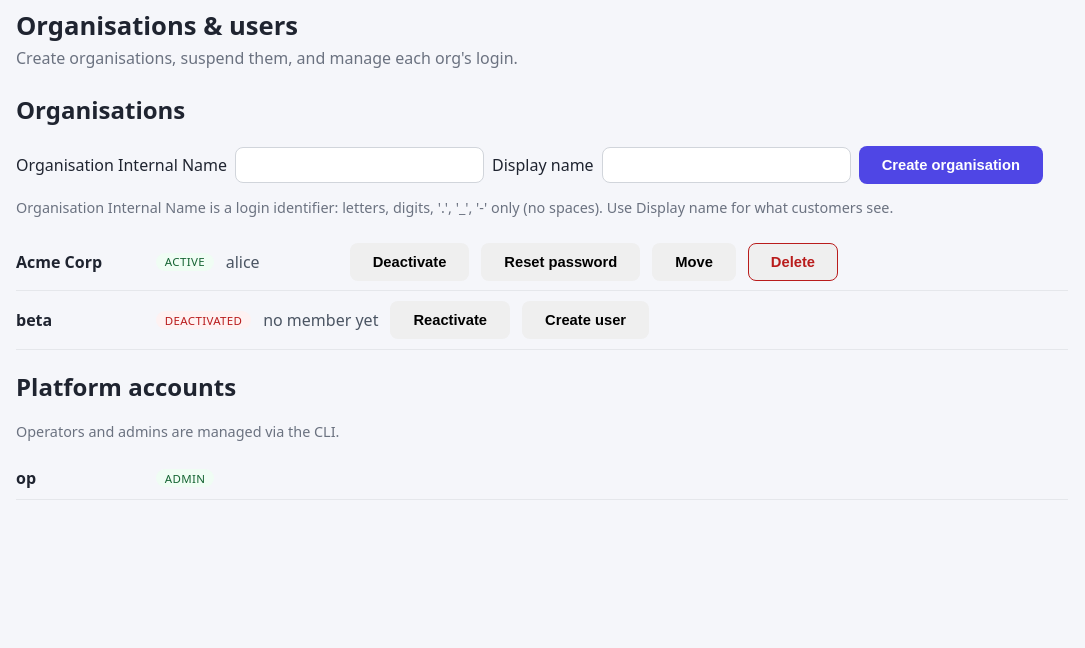
AccountsPage › scrolls the error banner into view when a create-user submit fails (banner can be off-screen on a long org list)
Expected: the text "Acme Corp" is shown, [16,251,102,273]
Step 1. Click the button with aria-label "create user for beta" → (586, 320), box [522,301,649,339]
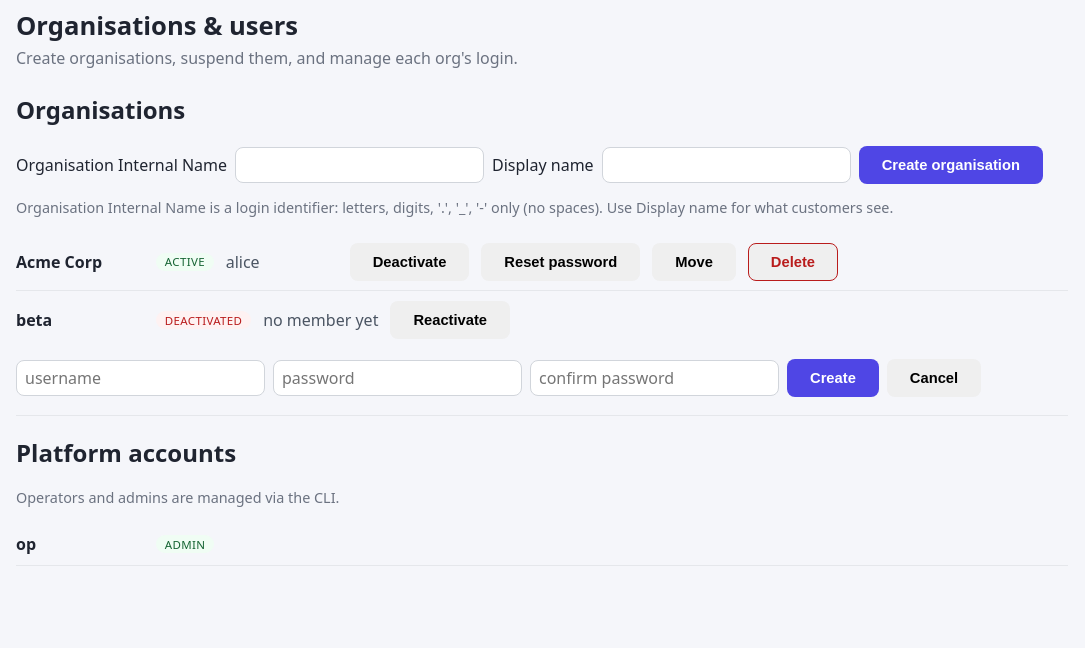
Step 2. Type "property demo" into the field named "Username for beta" → (140, 378), box [16,360,265,396]
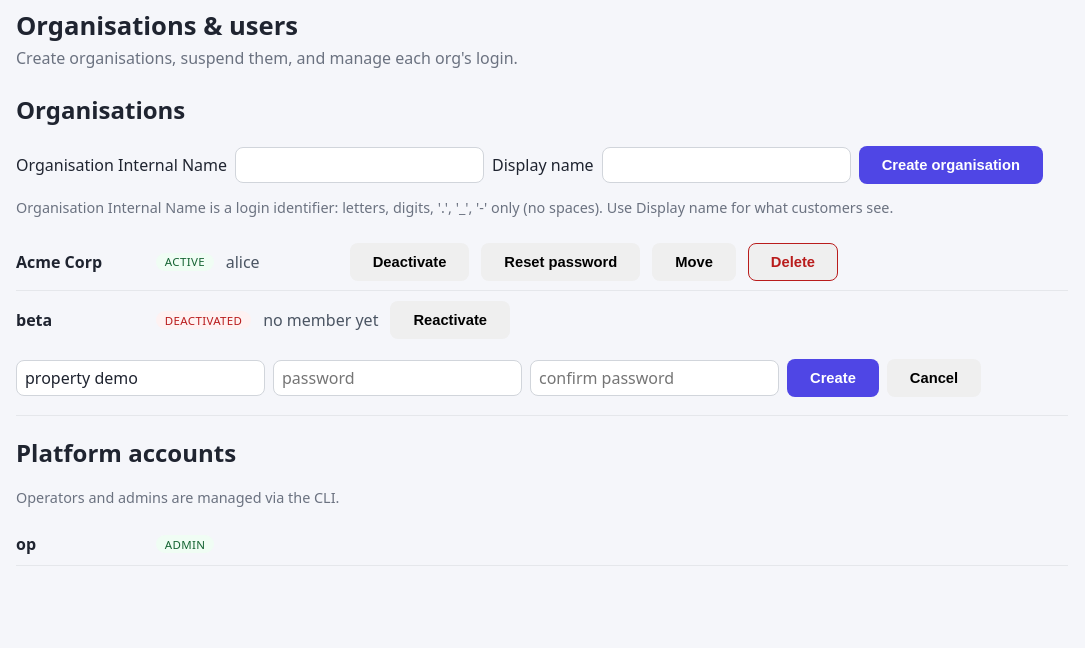
Step 3. Type "pw" into the password field named "Password for beta" → (398, 378), box [273,360,522,396]
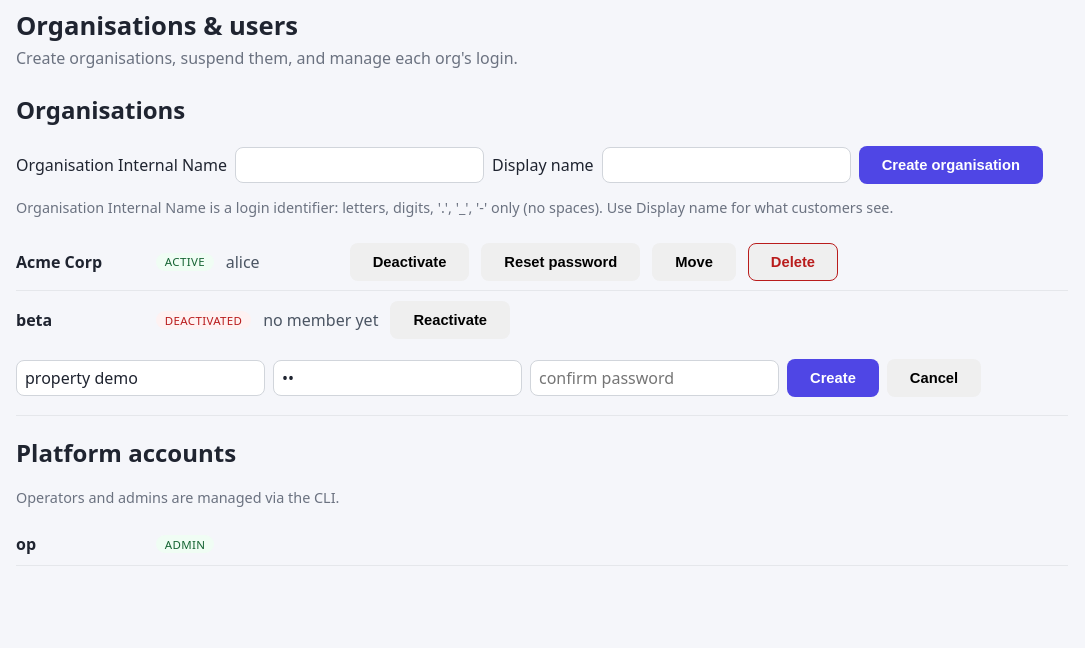
Step 4. Type "pw" into the password field named "Confirm password for beta" → (654, 378), box [530,360,779,396]
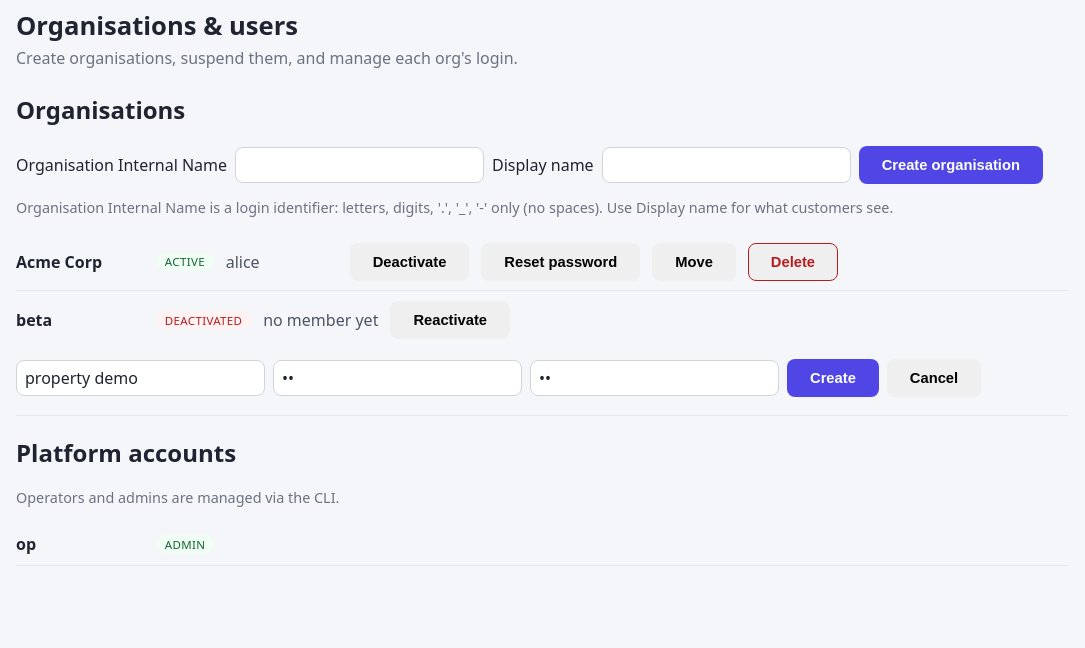
Step 5. Click the button "Create" → (833, 378), box [787,359,879,397]
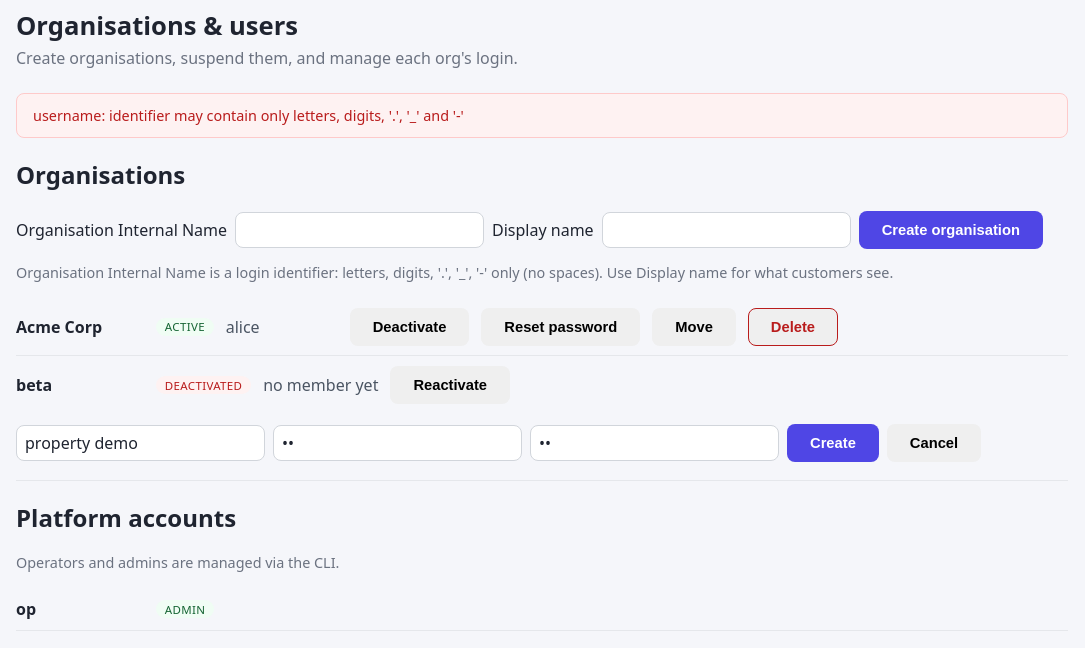
Expected: the text "identifier may contain only letters" is shown, [33,106,464,125]
